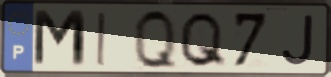7: (231, 11, 270, 69)
I: (94, 11, 109, 68)
J: (279, 13, 316, 68)
M: (31, 8, 89, 70)
Q: (131, 7, 180, 72), (177, 10, 229, 69)
